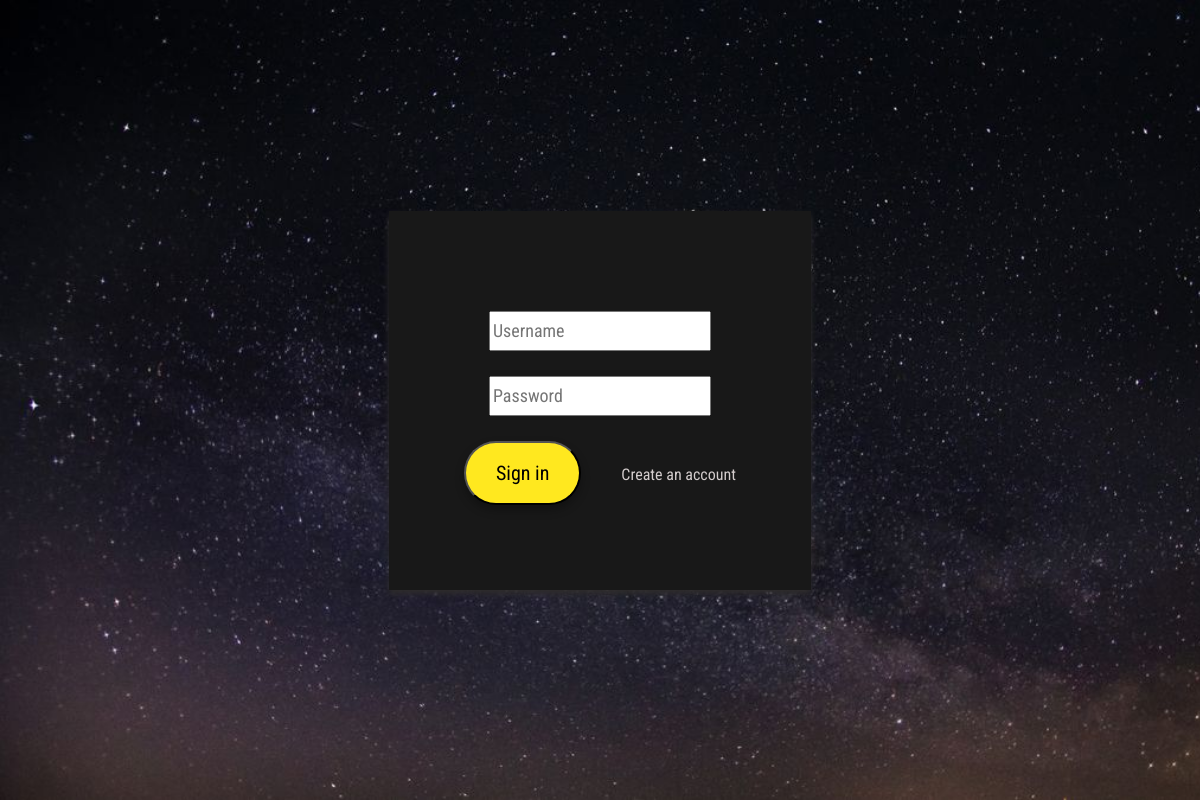
Login page › Creates an account
The width and height of the screenshot is (1200, 800).
Click the link "Create an account" at {"x": 679, "y": 475}, box [621,465,736,484]
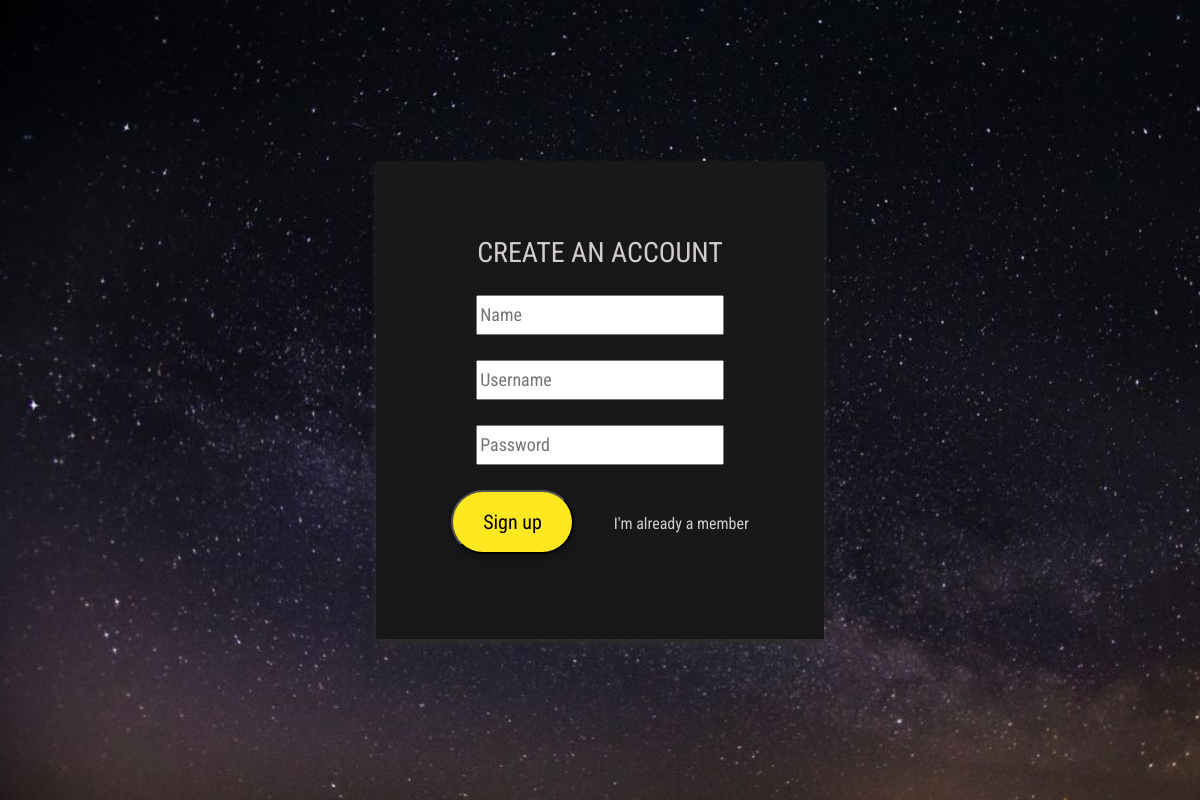
Type "Automated User" into the field named "name" at {"x": 600, "y": 315}, box [476,295,724,335]
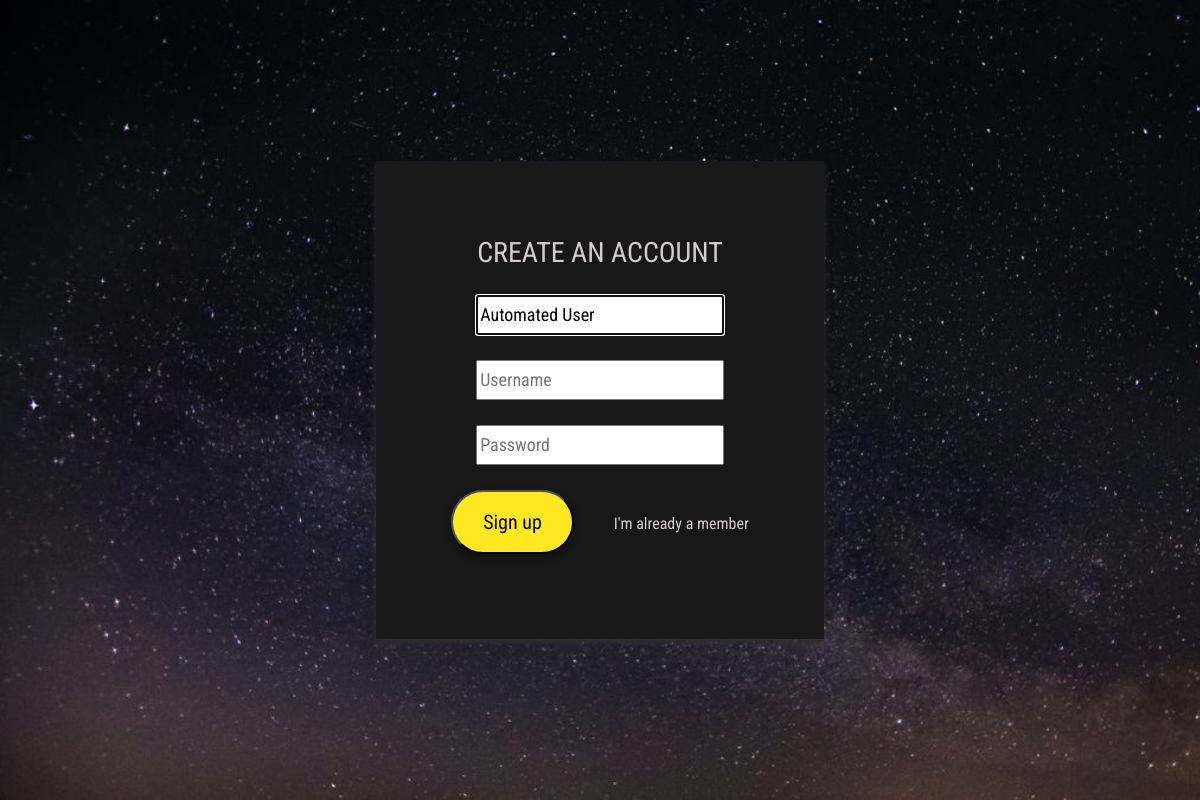
Type "autouser" into the field named "username" at {"x": 600, "y": 380}, box [476,360,724,400]
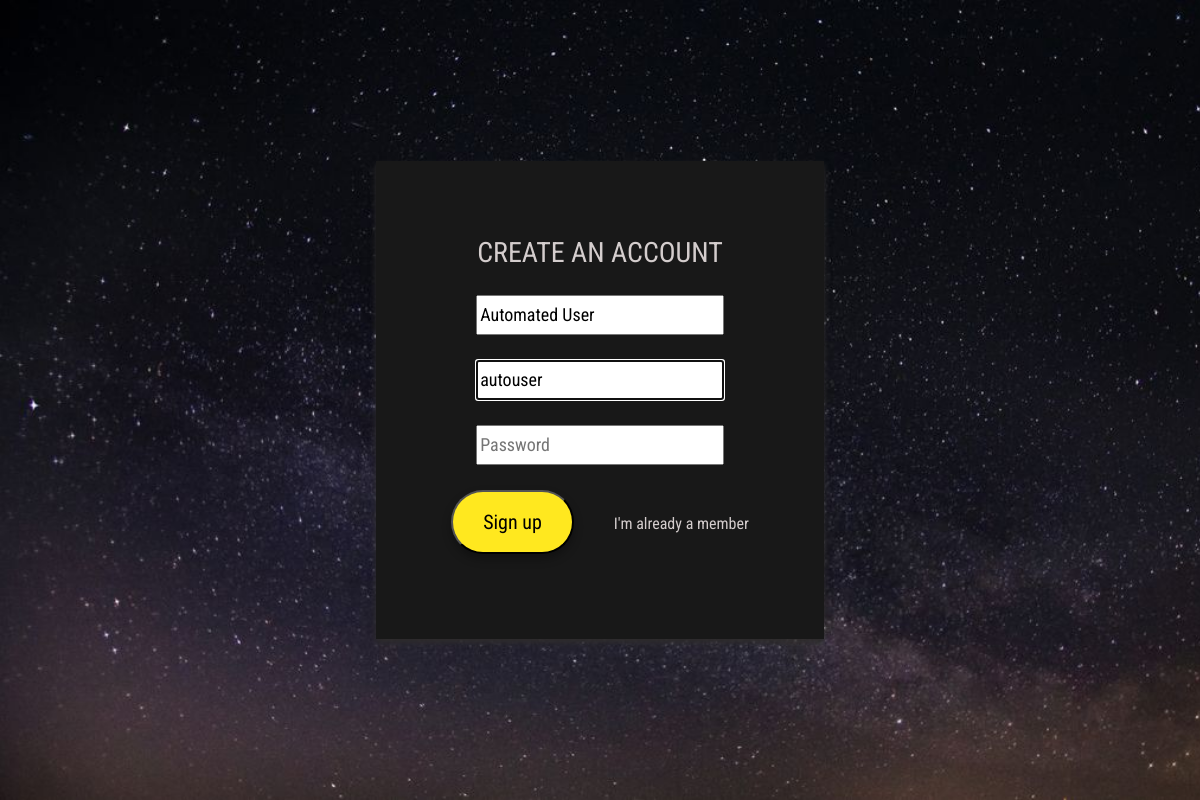
Type "autouser" into the password field named "password" at {"x": 600, "y": 445}, box [476,425,724,465]
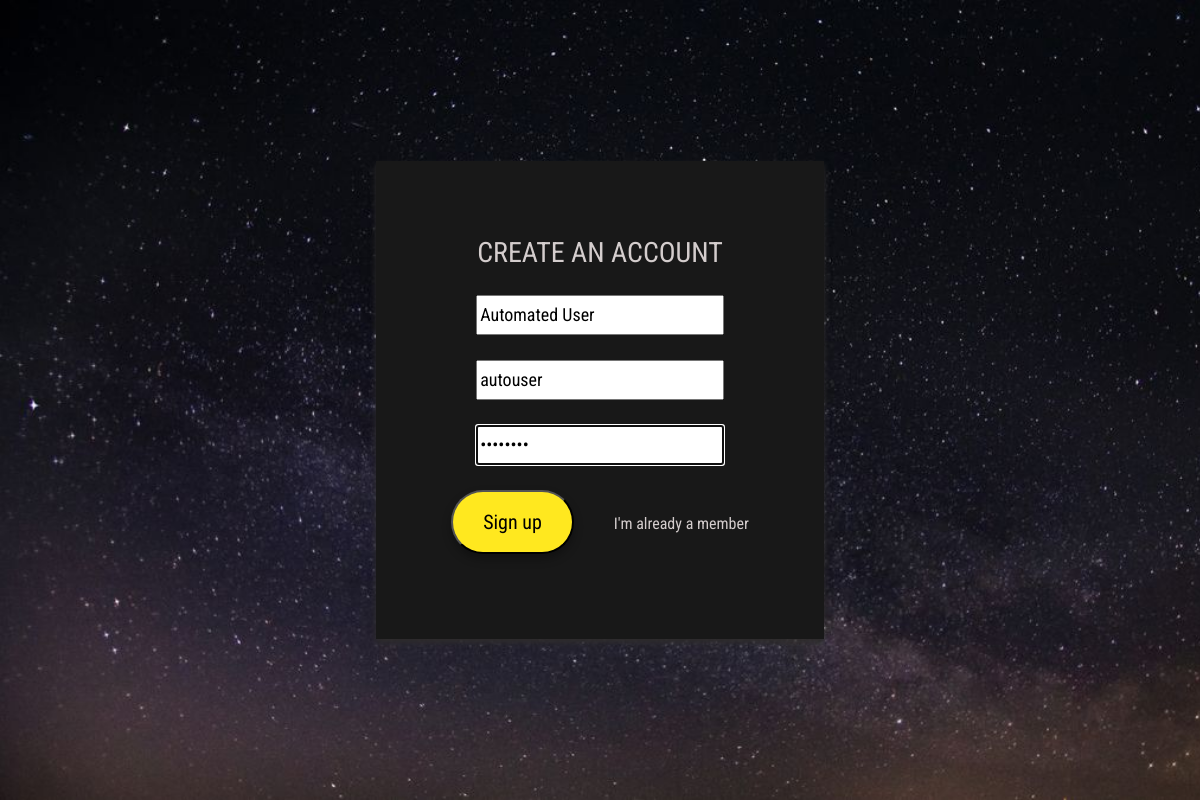
Click the button "Sign up" at {"x": 513, "y": 522}, box [451,490,574,554]
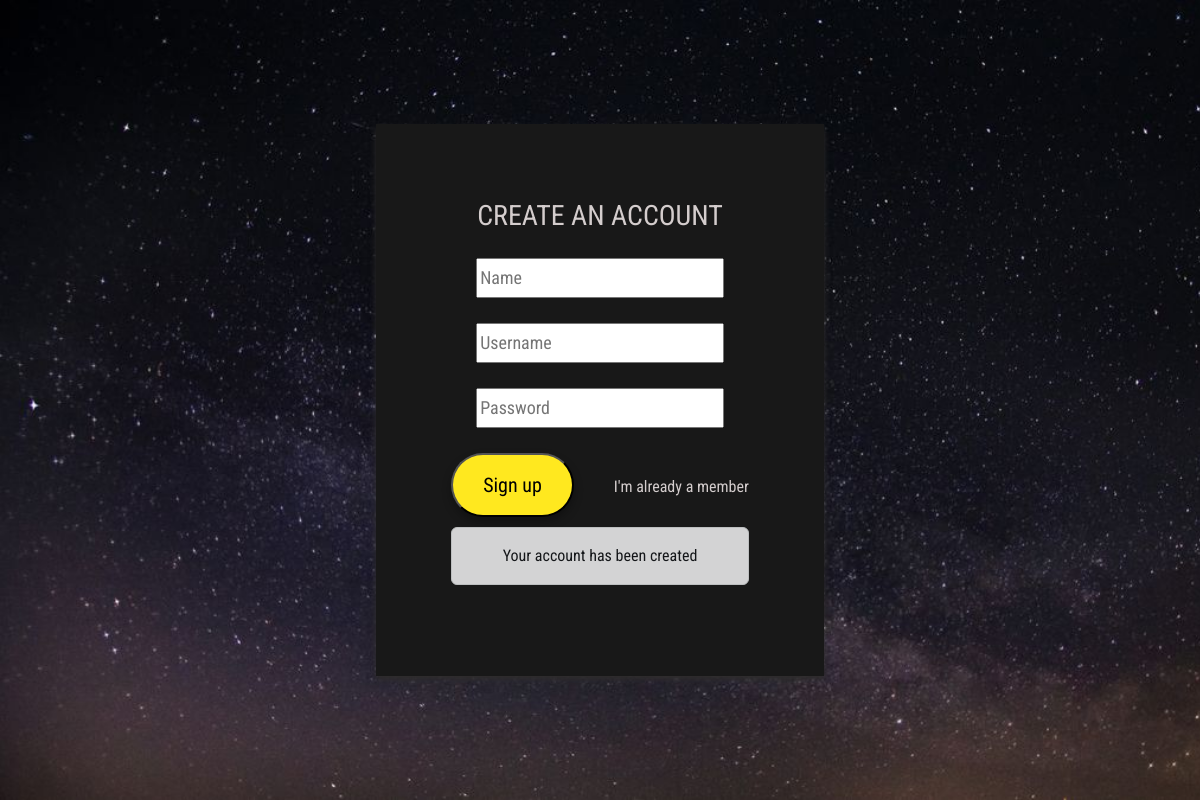
Check: the text "Your account has been created" is shown, box [451,527,749,585]
